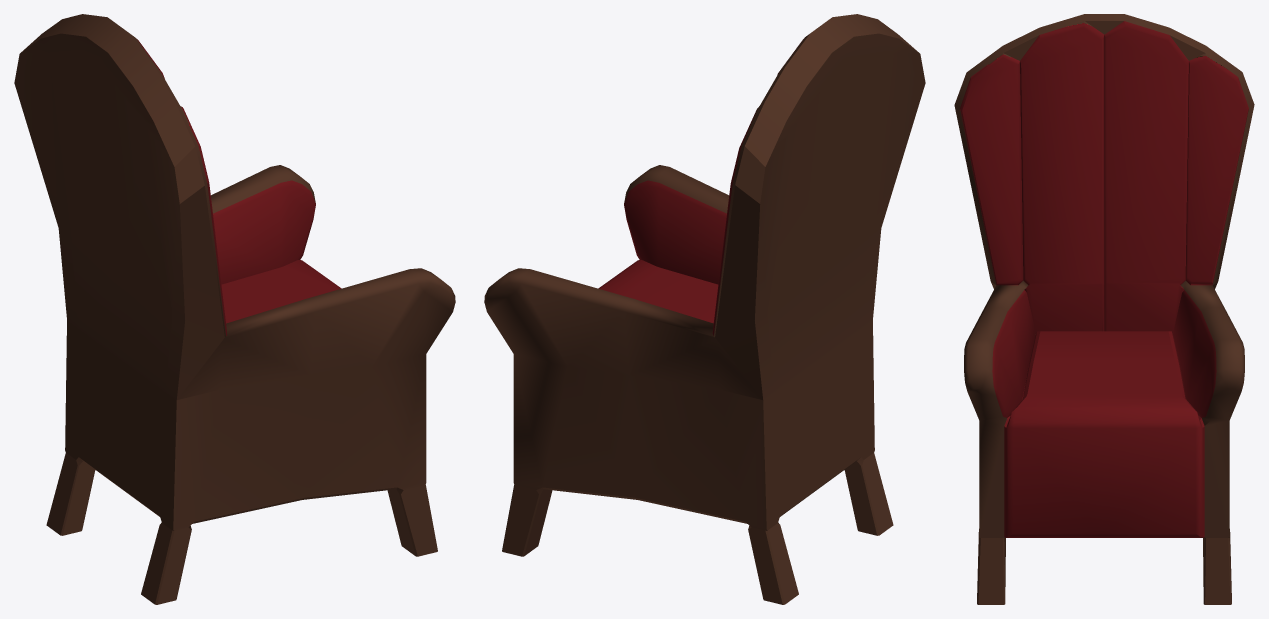
The model's file is LibraryChair.fbx.
3 views of the same model, side by side, from view 1: azimuth 30°, elevation 25°; view 2: azimuth 150°, elevation 25°; view 3: azimuth 270°, elevation 25° (orthographic). The views are drawn at different scales.
Parts seen in each view (by area): view 1: LibraryChairUVd:pCube2; view 2: LibraryChairUVd:pCube2; view 3: LibraryChairUVd:pCube2.
Part boxes in pixels (left/top/right/bottom): LibraryChairUVd:pCube2: left=14, top=14, right=455, bottom=604; LibraryChairUVd:pCube2: left=484, top=14, right=925, bottom=604; LibraryChairUVd:pCube2: left=954, top=14, right=1254, bottom=604.
Size of the model in its own units: 1.04 by 1.88 by 1.06.
